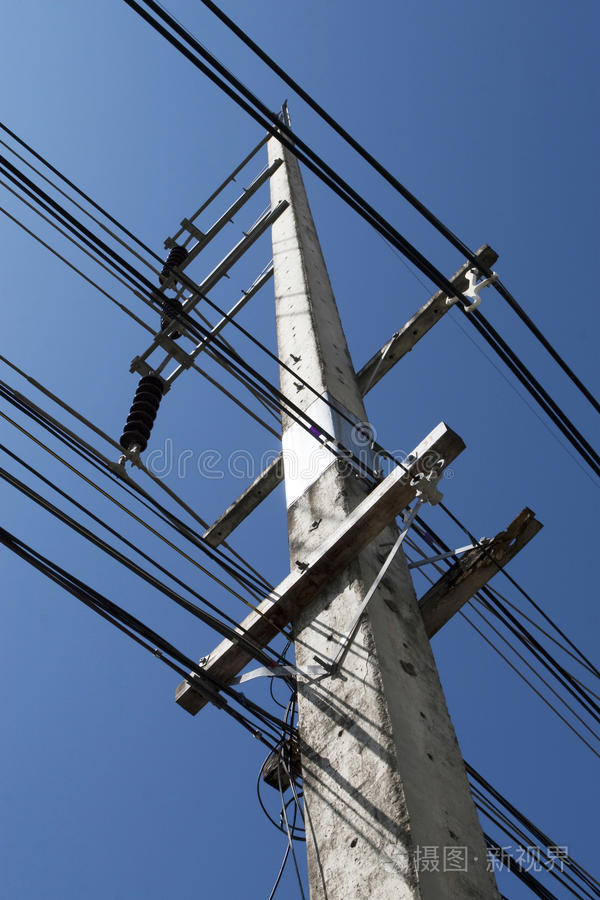insulator: (119, 375, 164, 450)
